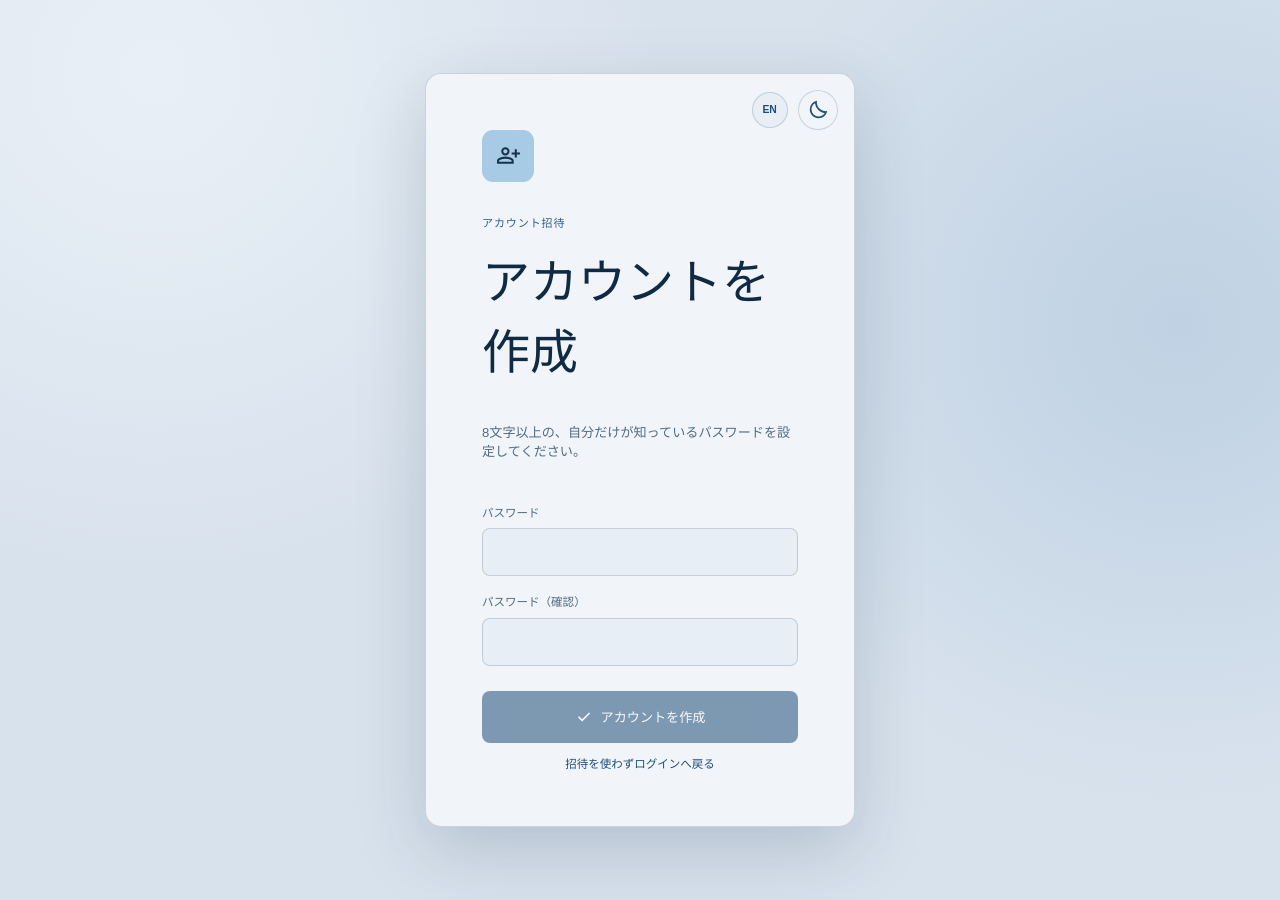
Test case: InvitationAcceptanceScreen › creates an account from the invitation token
This screenshot has width=1280, height=900.
Type "eight888" into the password field labelled "パスワード" at [640, 552], box [482,528,798,576]
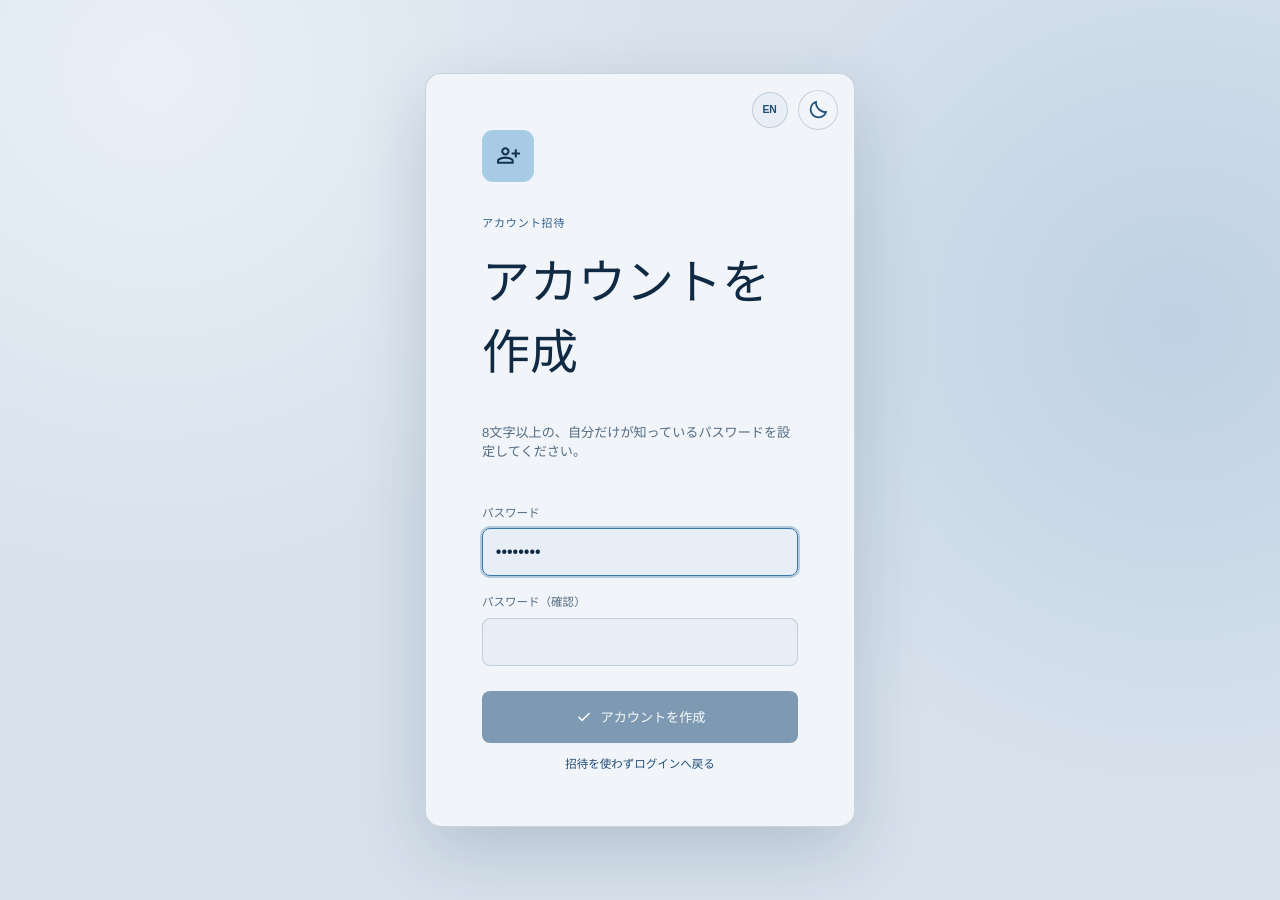
Type "eight888" into the password field labelled "パスワード（確認）" at [640, 642], box [482,618,798,666]
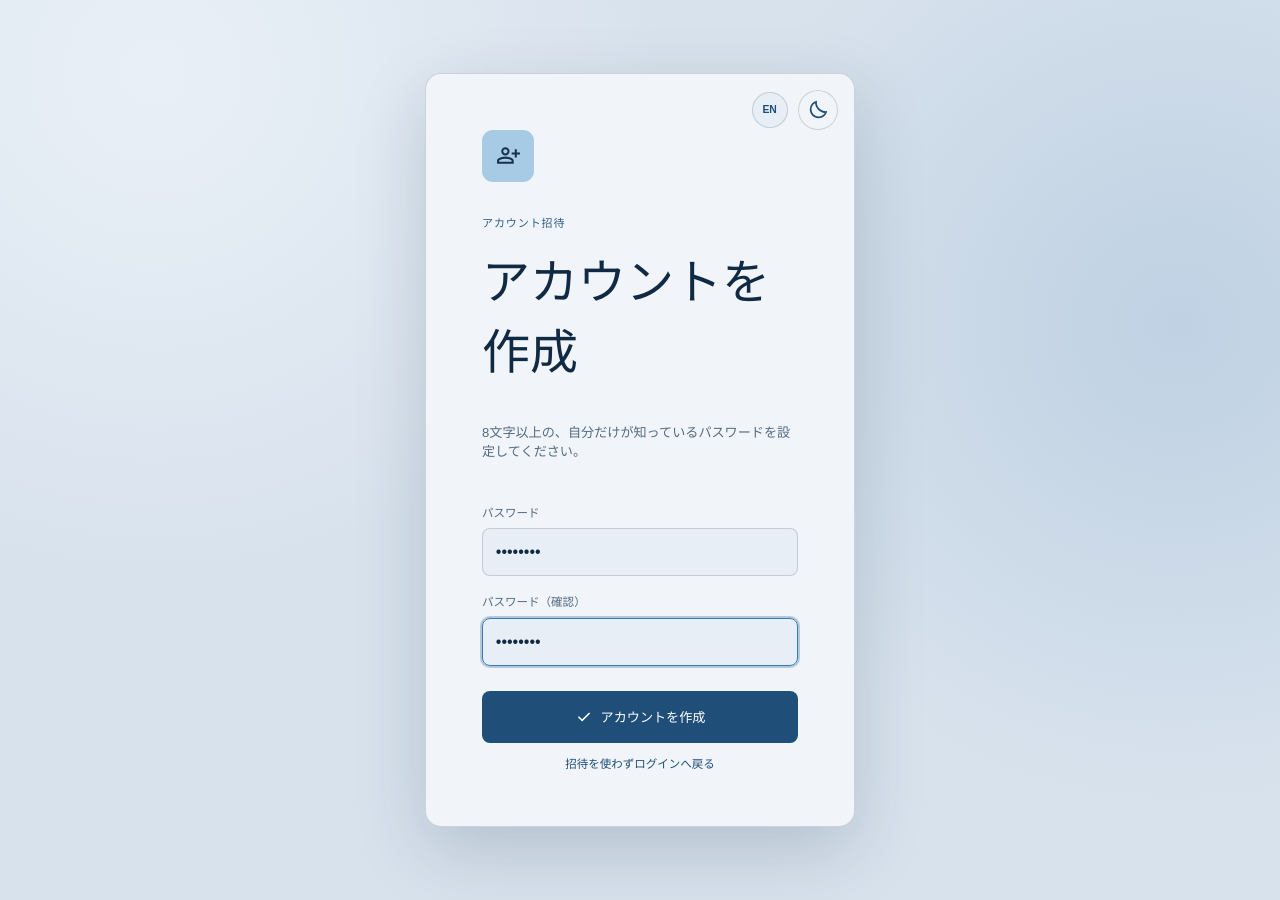
Click the button "アカウントを作成" at [640, 717], box [482,691,798,743]
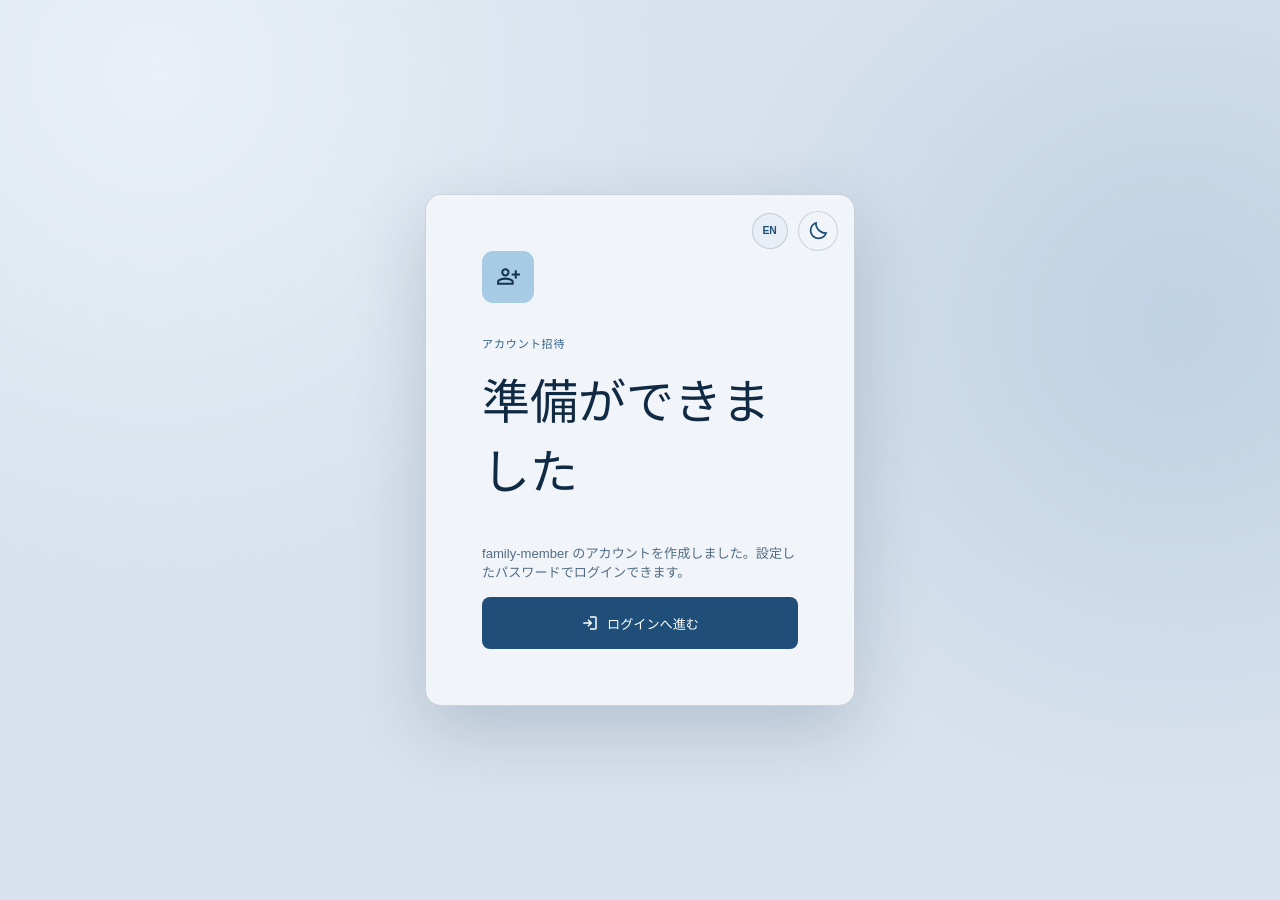
Expected: the text "family-member のアカウントを作成しました。設定したパスワードでログインできます。" is shown, [482,543,798,581]
Expected: the button "ログインへ進む" is shown, [482,597,798,649]
